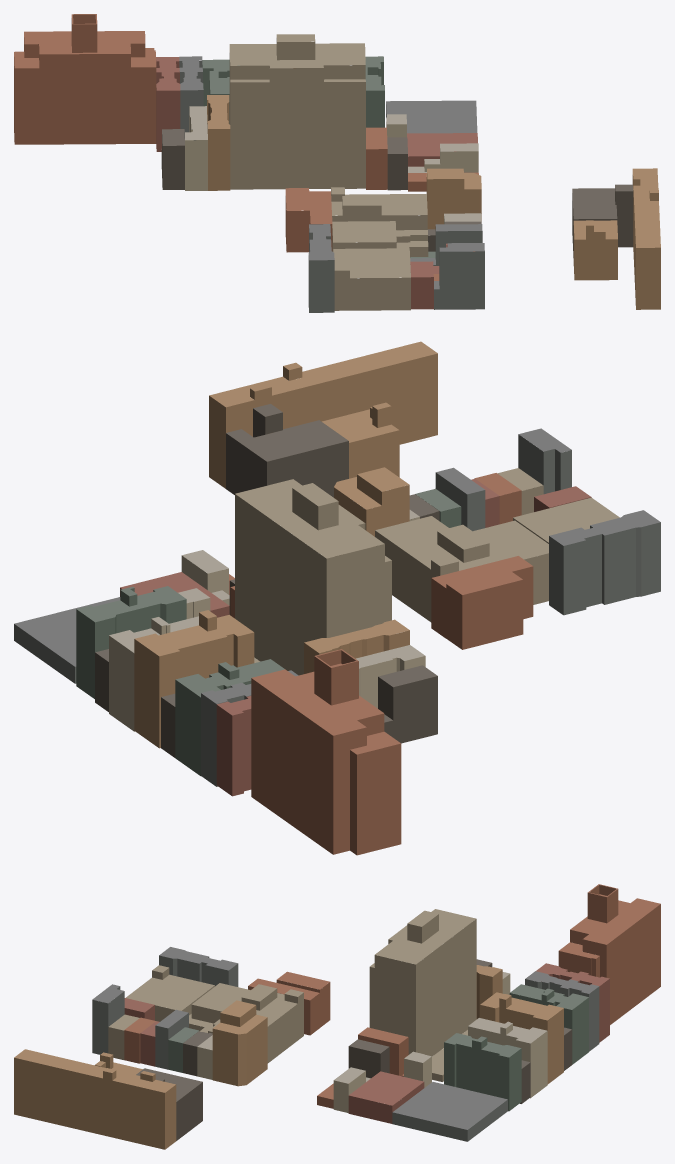
Rendered from tile-6_-1.glb.
3 renders of one model, top to bottom at view 1: azimuth 30°, elevation 25°; view 2: azimuth 150°, elevation 25°; view 3: azimuth 270°, elevation 25°, orthographic. The views are drawn at different scales.
Visible parts, largest first — view 1: wall, roof; view 2: wall, roof; view 3: wall, roof.
Boxes of the visible parts, <box> form: wall: <box>14,14,660,312</box>; roof: <box>14,14,660,289</box>; wall: <box>14,353,660,855</box>; roof: <box>14,341,660,754</box>; wall: <box>14,885,660,1149</box>; roof: <box>14,884,660,1129</box>.
Bounding box in the file's own units: 153 × 54.44 × 236.
